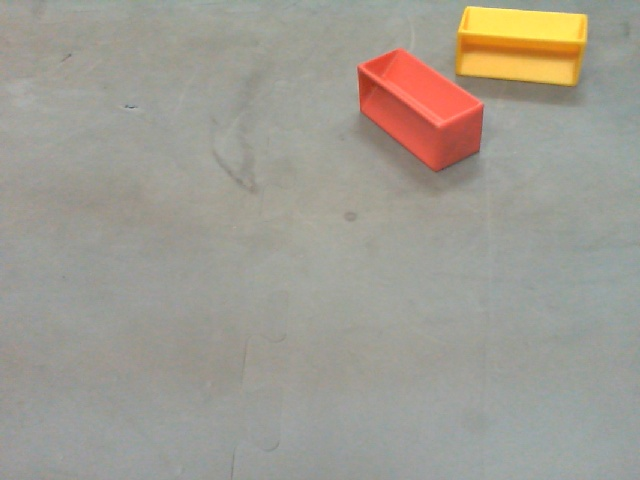RedSample: (351, 46, 485, 175)
YellowSample: (455, 3, 590, 86)
